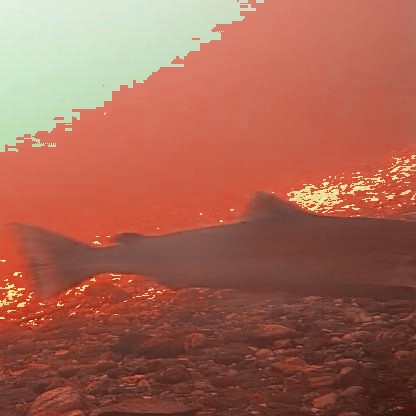salmon: (4, 188, 415, 311)
